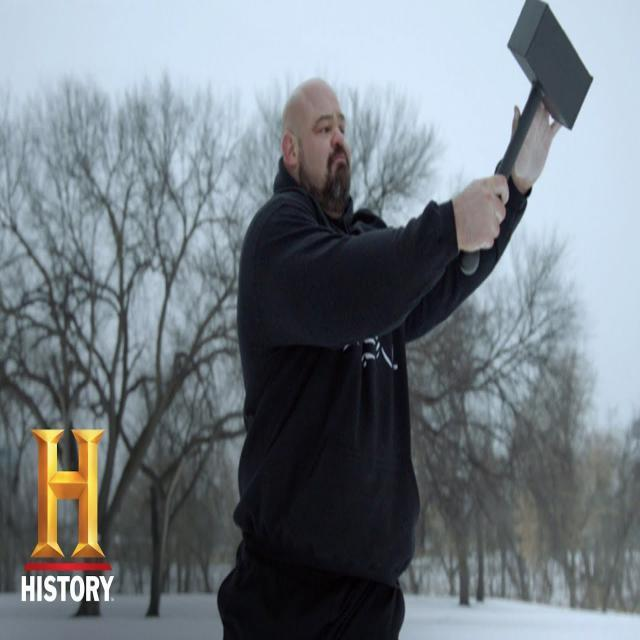hammer: (453, 0, 598, 293)
